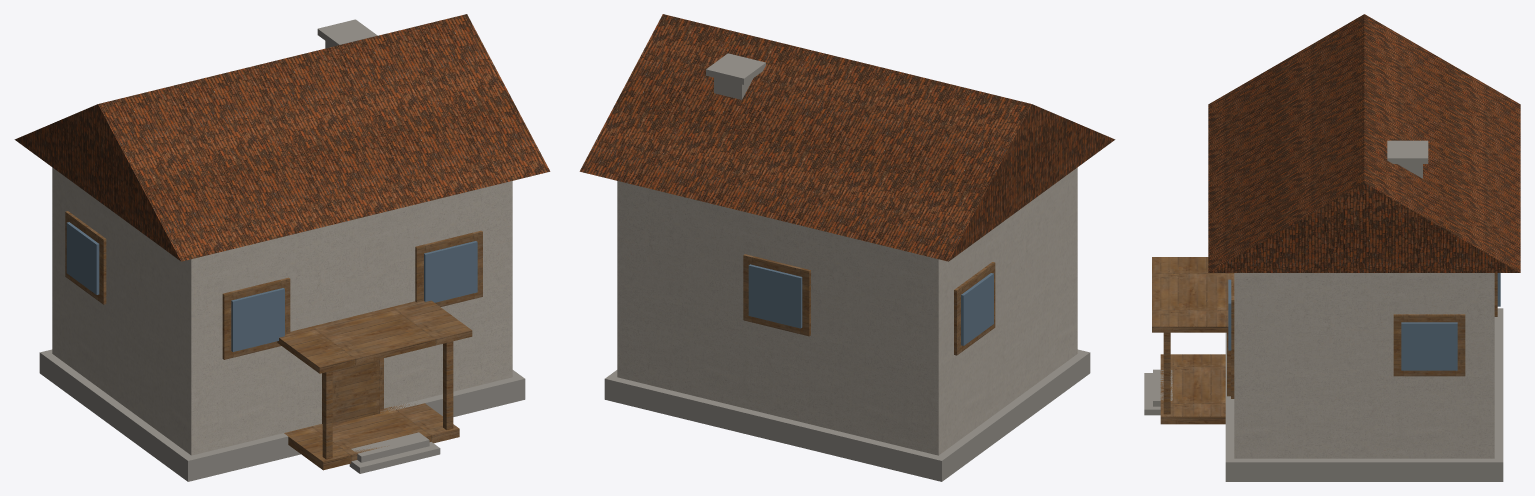
The model's file is HouseA.glb.
The picture shows the model from 3 angles, left to right: view 1: azimuth 30°, elevation 25°; view 2: azimuth 150°, elevation 25°; view 3: azimuth 270°, elevation 25°; orthographic projection. The views are drawn at different scales.
Parts seen in each view (by area): view 1: HouseA; view 2: HouseA; view 3: HouseA.
Part boxes in pixels (x1,y1,x2,y2): HouseA: (14, 14, 550, 481); HouseA: (579, 14, 1115, 481); HouseA: (1144, 14, 1520, 481).
Size of the model in its own units: 9.2 by 7.8 by 8.67.
Materials: 5 (3 with a texture image).
